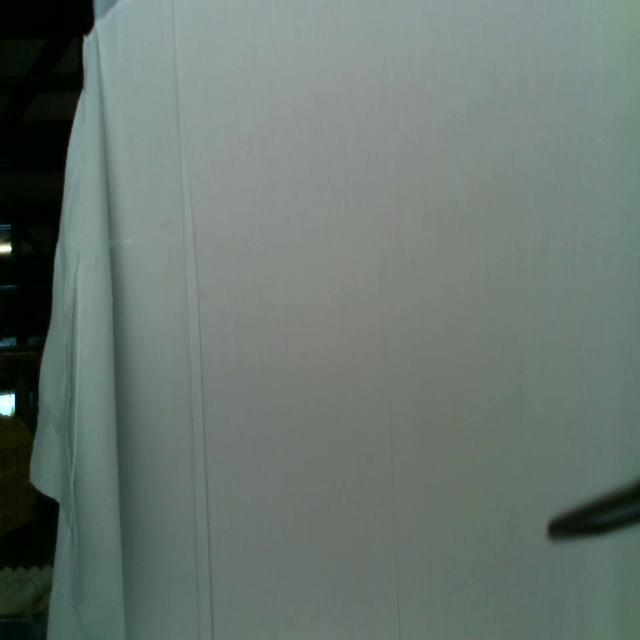crease: (172, 0, 201, 640), (191, 195, 215, 637), (384, 333, 402, 640)
